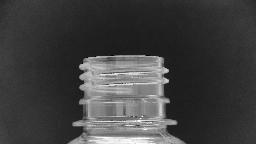No Cap: (66, 50, 180, 132)
